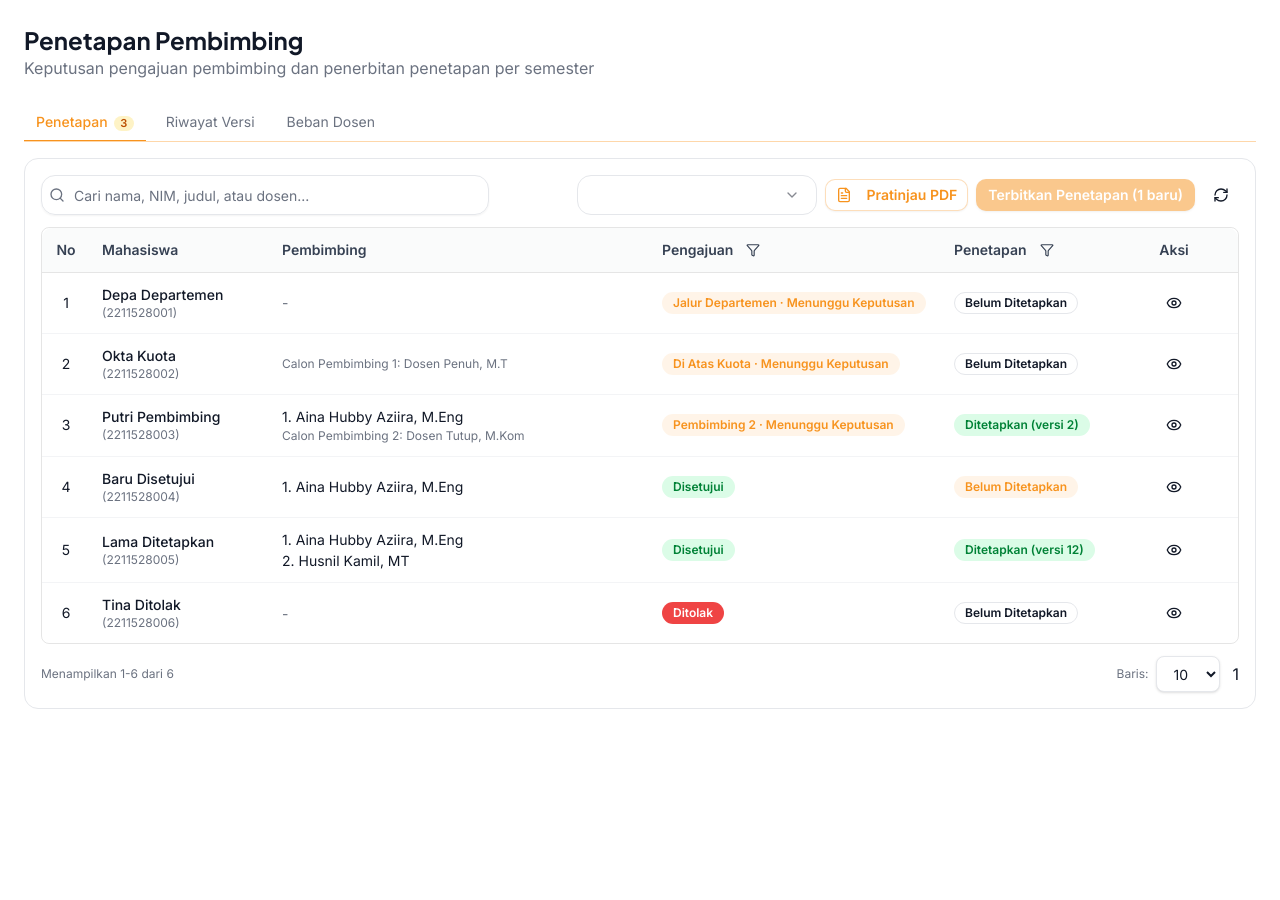
Test case: Penetapan Pembimbing › Penetapan and Riwayat Versi share one semester through ?semester=
This screenshot has width=1280, height=900.
Check: the text "Depa Departemen" is shown, box 102,286 -> 224,302
Step 1. Click the button "Riwayat Versi" → (210, 123), box 154,104 -> 267,142
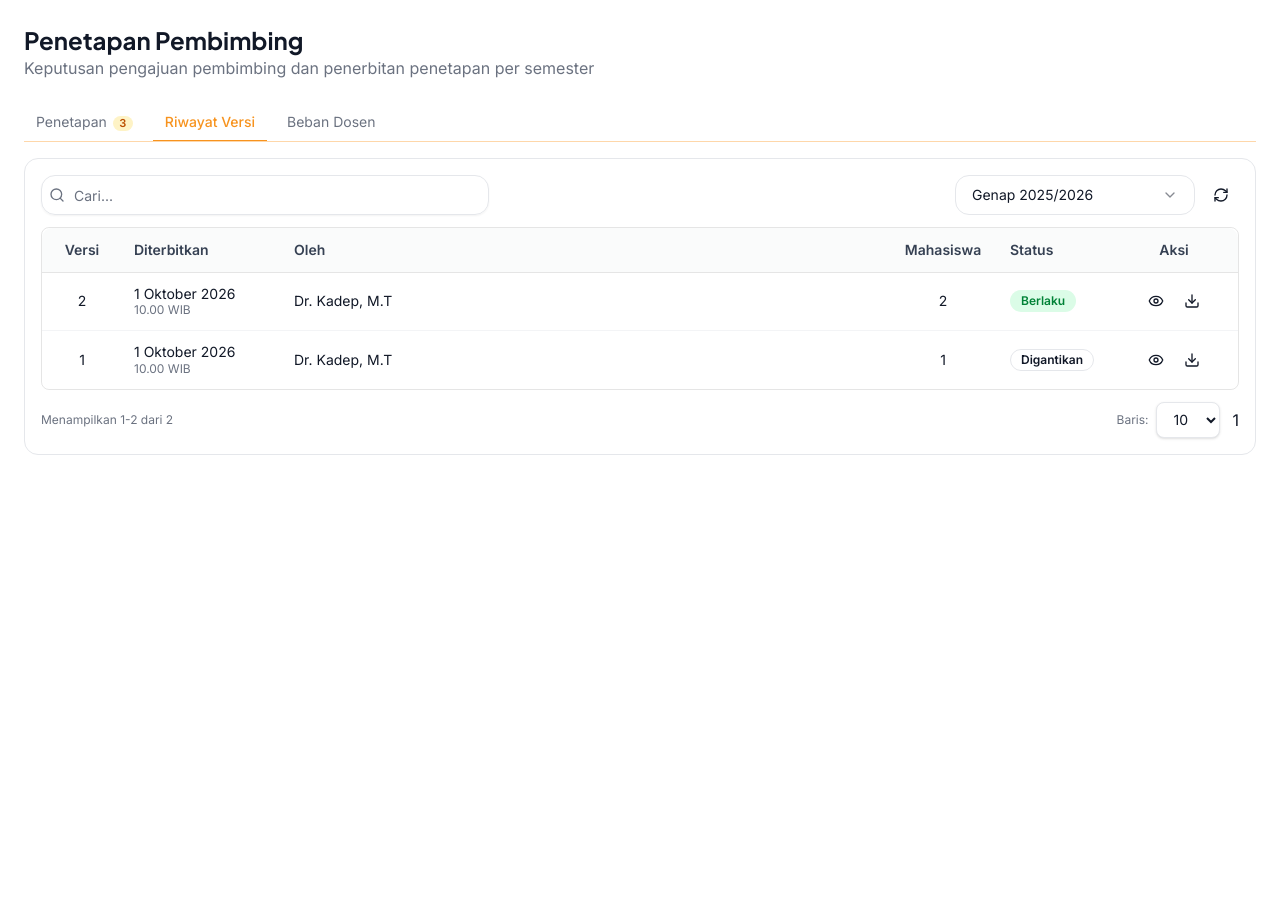
Check: the dropdown labelled "Genap 2025/2026" is shown, box 955,175 -> 1195,215
Check: the column heading "Versi" is shown, box 42,228 -> 122,272
